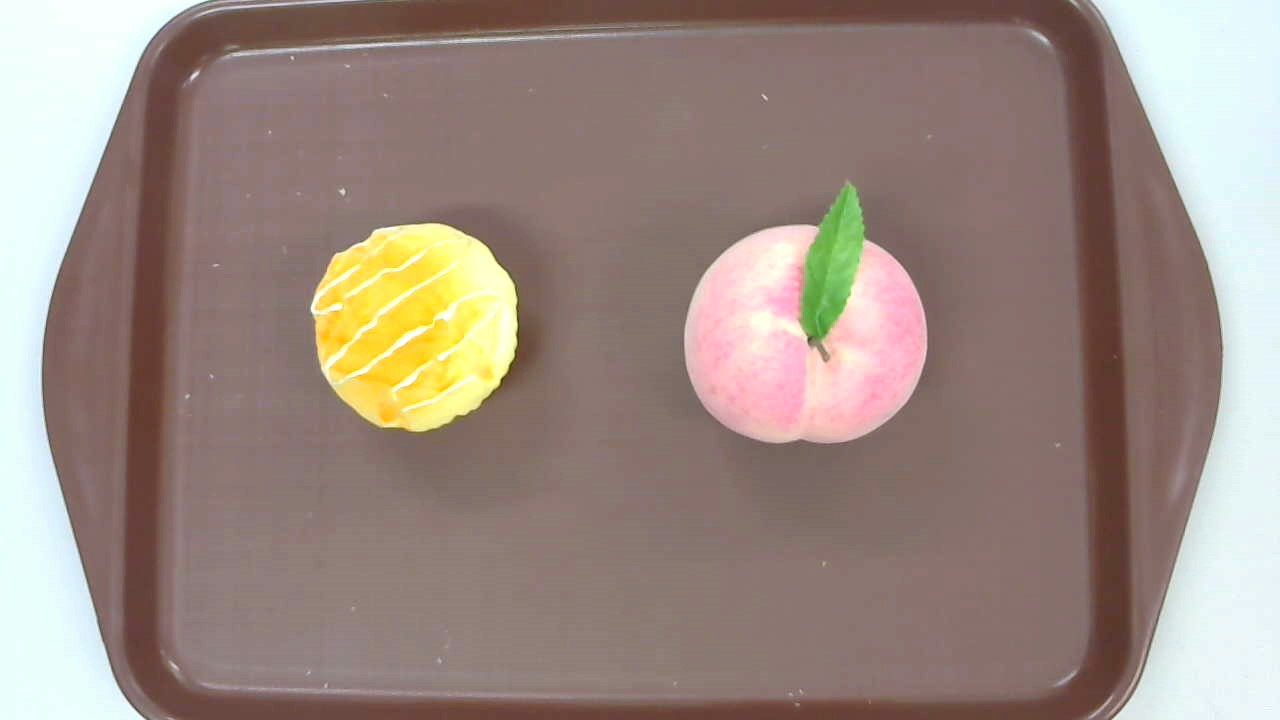cupcake: (309, 222, 520, 436)
peach: (682, 180, 928, 445)
